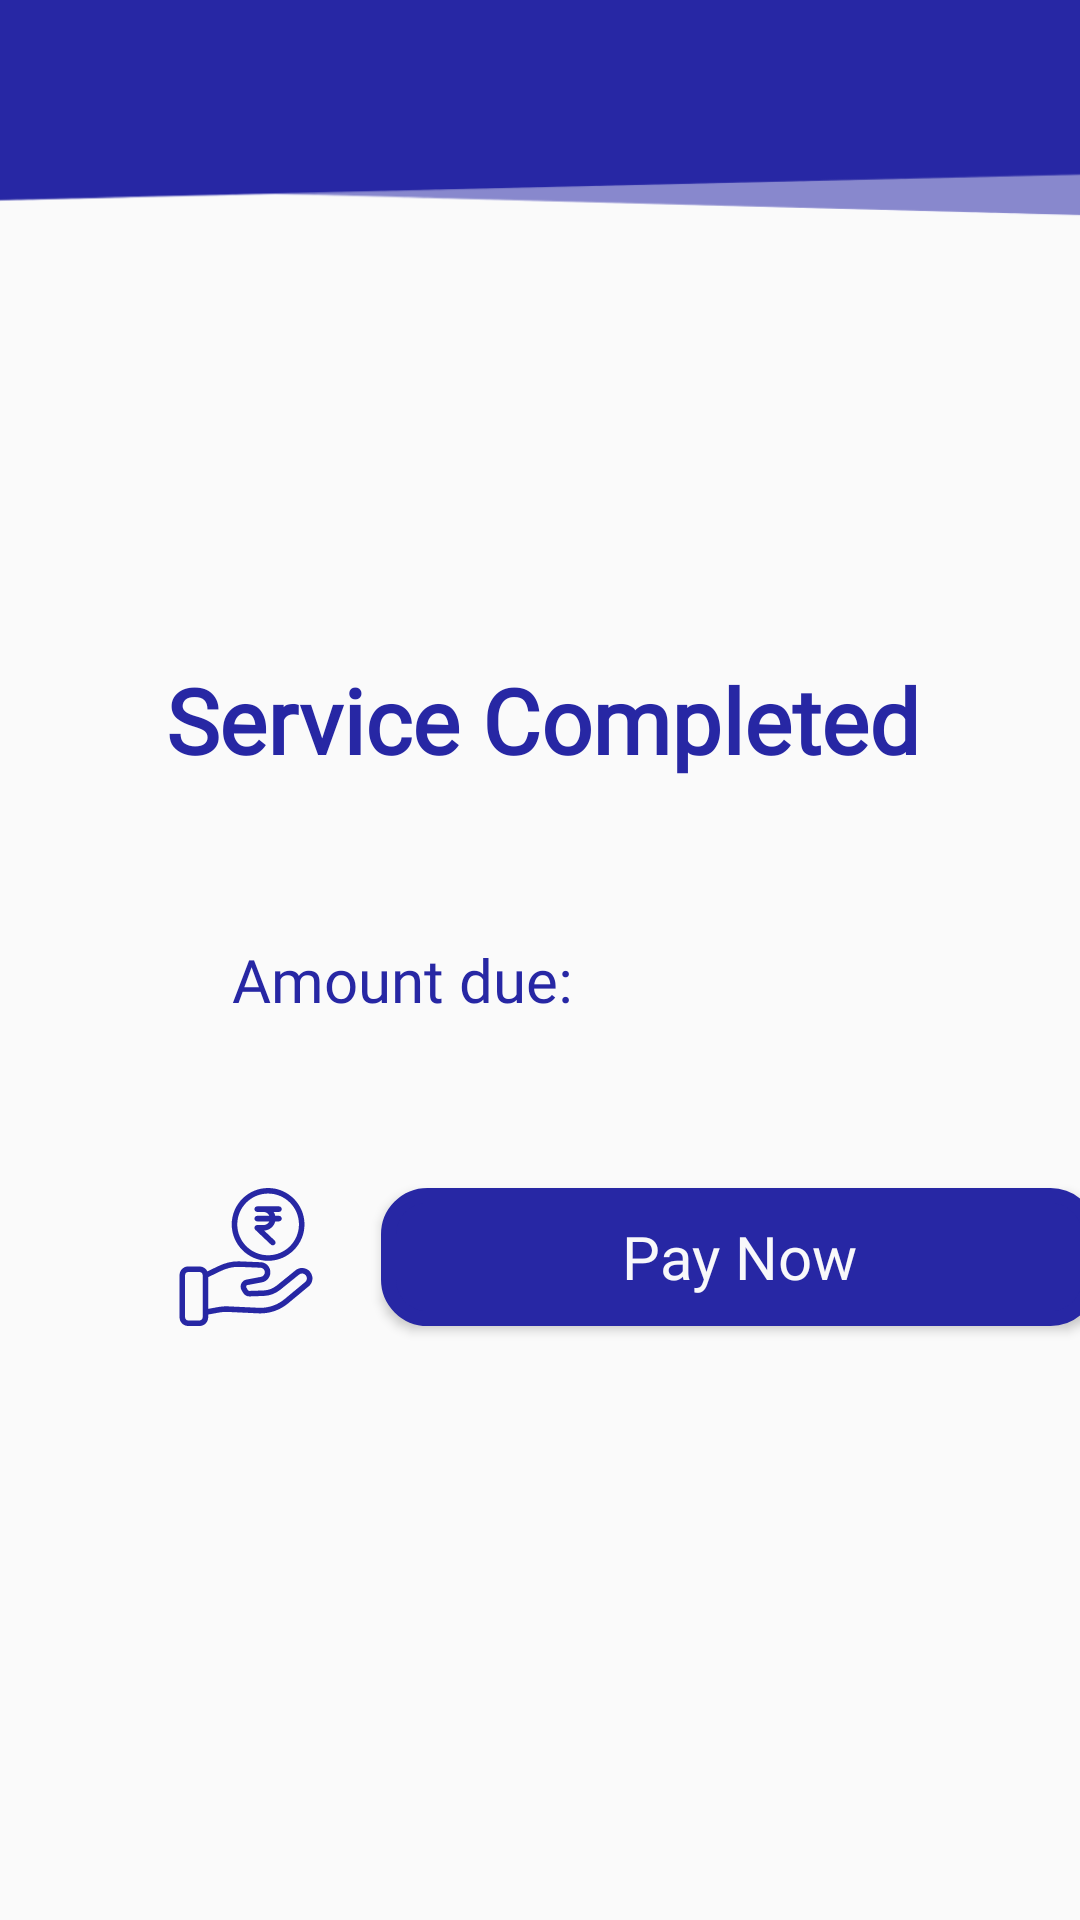

Point at icon controls on the screen. Image size 1080*1920, points as [x,y].
payment: [246,1257]
